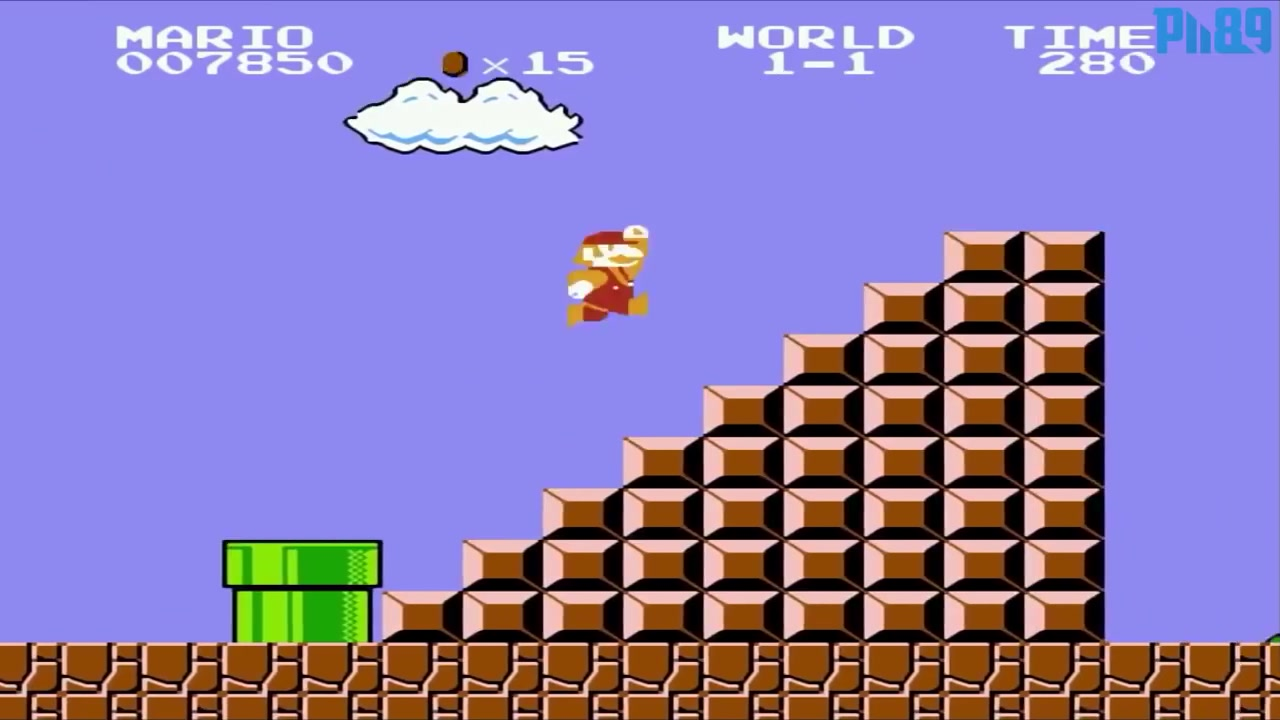mario: (538, 213, 681, 332)
